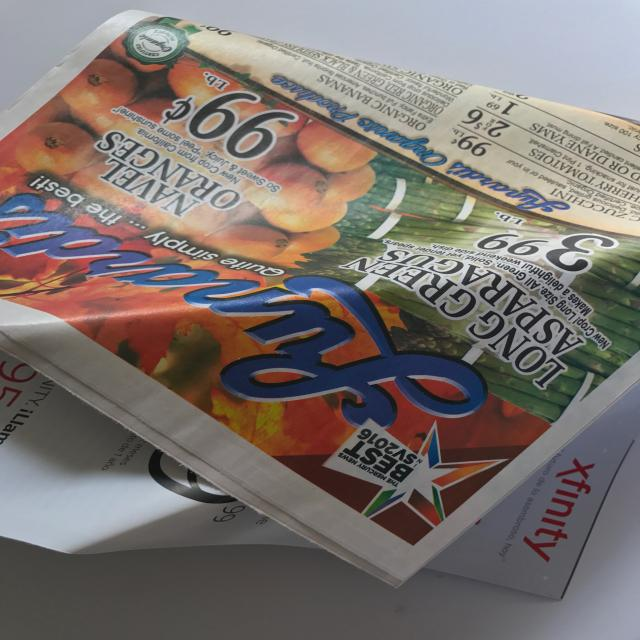paper: (1, 9, 639, 597)
